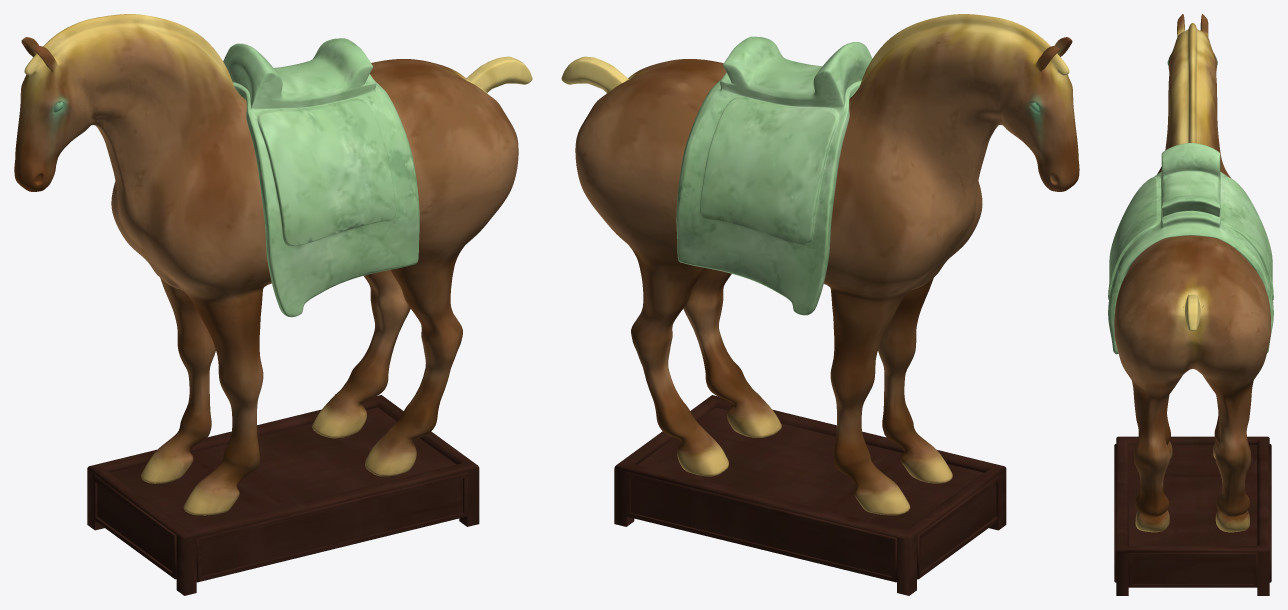
The model's file is tang_dynasty_ceramic_horse.glb.
3 views of the same model, side by side, from view 1: azimuth 30°, elevation 25°; view 2: azimuth 150°, elevation 25°; view 3: azimuth 270°, elevation 25° (orthographic). The views are drawn at different scales.
Parts seen in each view (by area): view 1: defaultMaterial (×3); view 2: defaultMaterial (×3); view 3: defaultMaterial (×3).
Part boxes in pixels (x1,y1,x2,y2): defaultMaterial (×3): (14, 14, 532, 595); defaultMaterial (×3): (561, 14, 1079, 595); defaultMaterial (×3): (1108, 14, 1273, 595).
Bounding box in the file's own units: 1.95 × 2 × 0.6906.
Materials: 3 (3 with a texture image).
